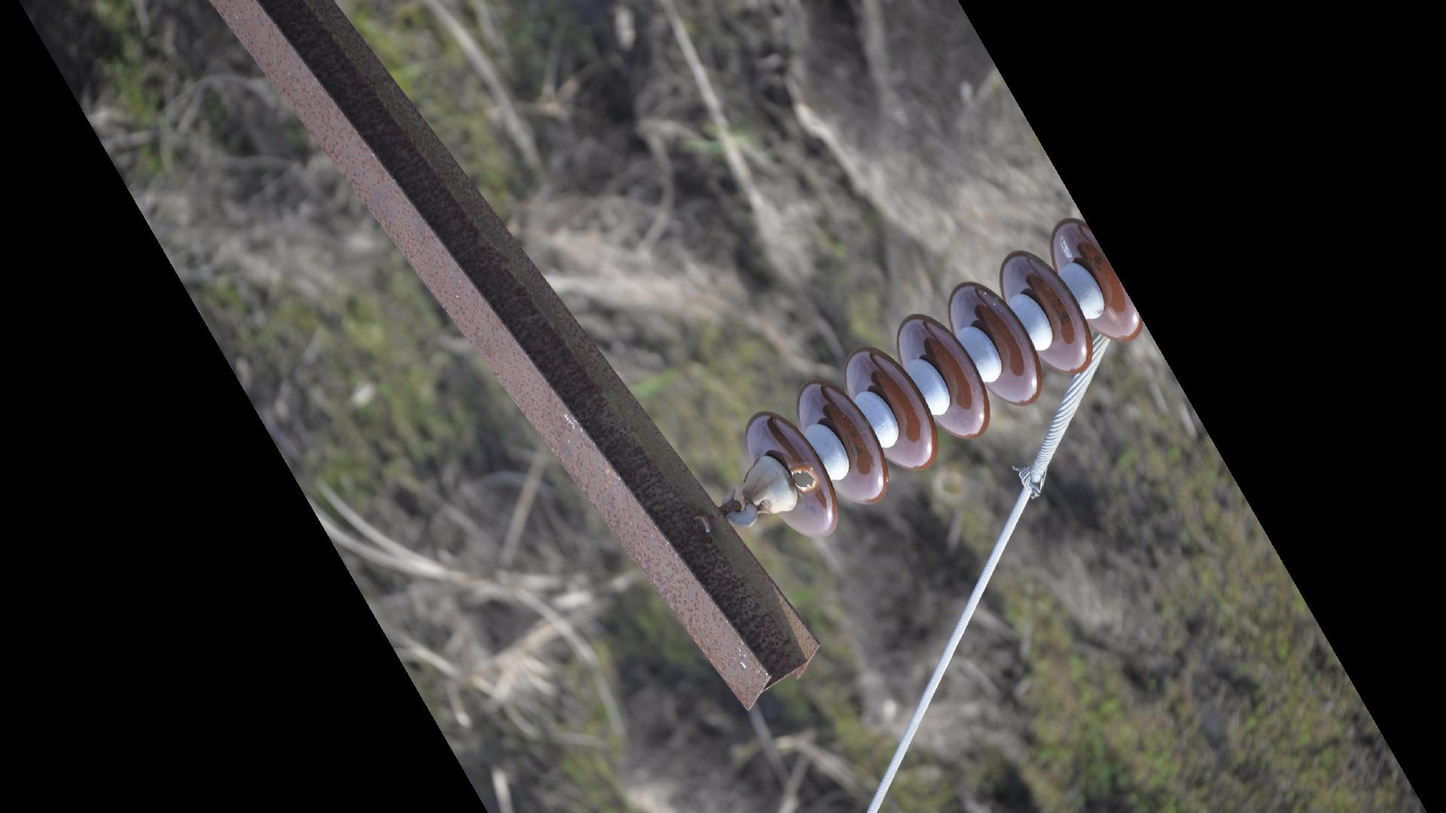insulator: (740, 214, 1146, 542)
insulator_flashover: (789, 464, 819, 494), (1057, 233, 1078, 263)
